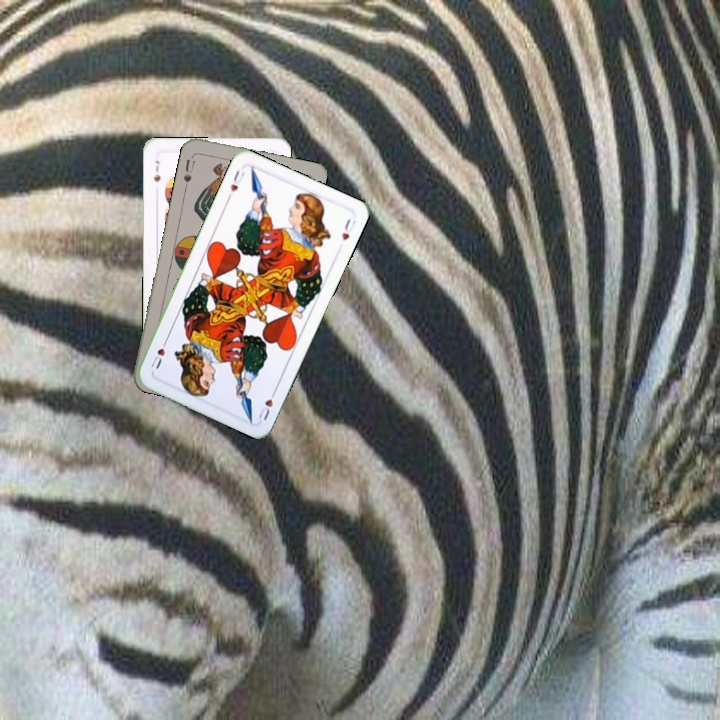HU: (254, 385, 279, 423), (224, 166, 247, 202)
S7: (150, 156, 163, 184)
SU: (179, 151, 197, 185)
